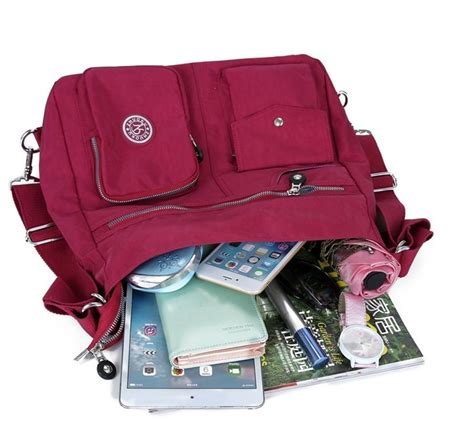nylon: (16, 53, 429, 341)
